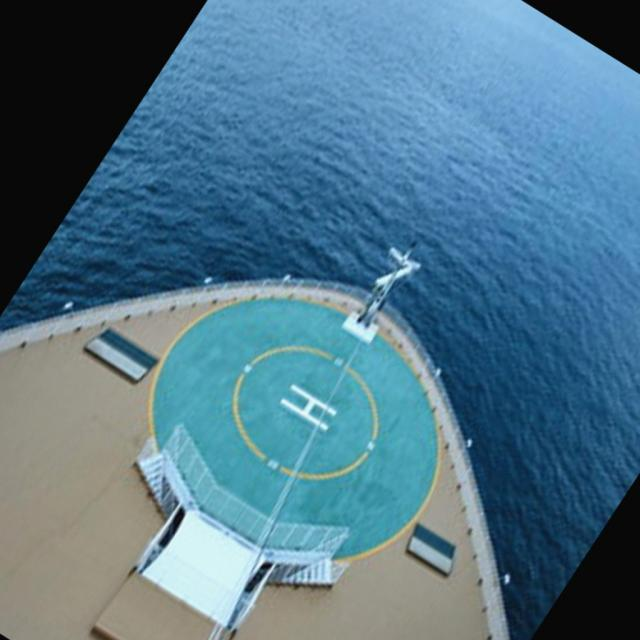helipad: (228, 338, 382, 484)
